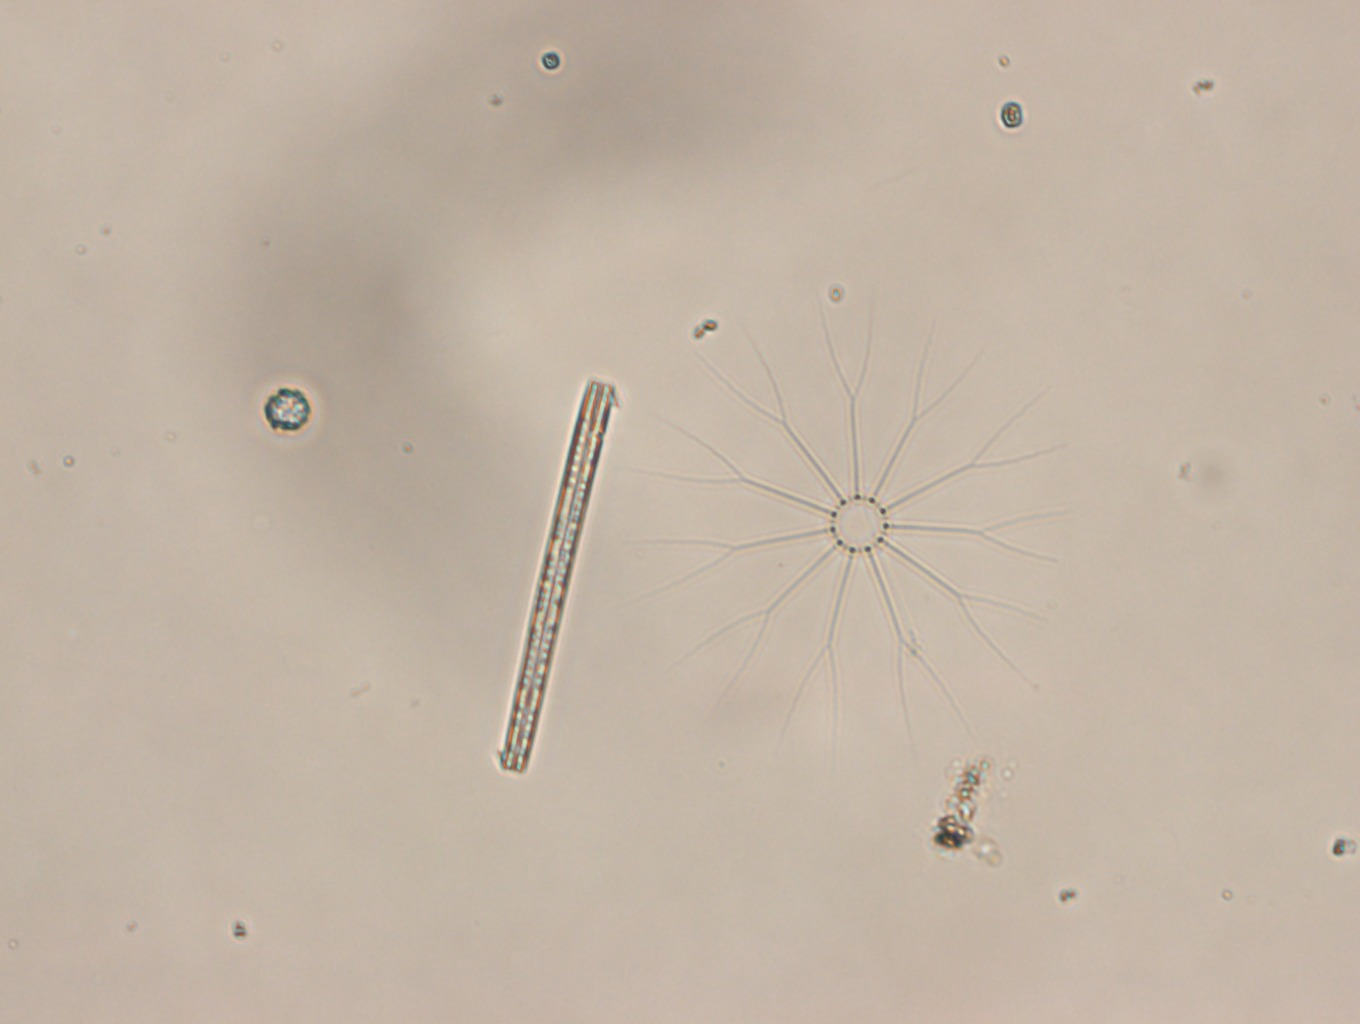bacteriastrum: (632, 291, 1077, 758)
thalassionema frauenfeldii: (493, 376, 617, 773)
